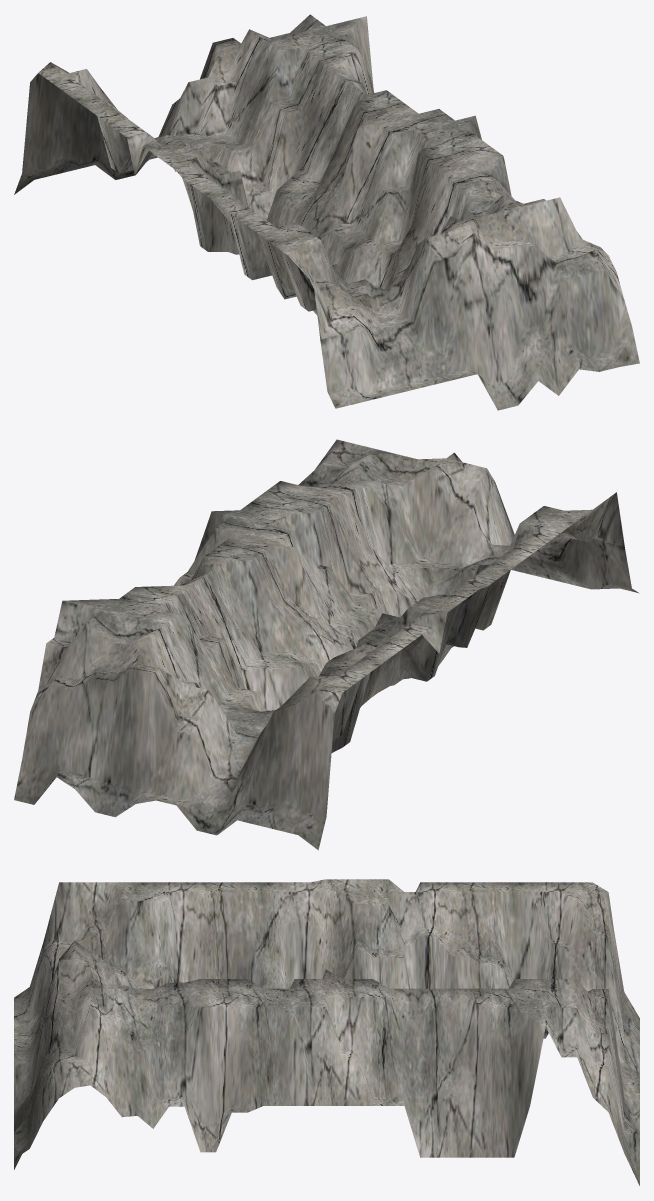
The model's file is DWARF_PALACE_MAINHALL_CELLING02C.fbx.
The picture shows the model from 3 angles, top to bottom: view 1: azimuth 30°, elevation 25°; view 2: azimuth 150°, elevation 25°; view 3: azimuth 270°, elevation 25°; orthographic projection. The views are drawn at different scales.
Visible parts, largest first — view 1: DWARF_PALACE_MAINHALL_CELLING02C; view 2: DWARF_PALACE_MAINHALL_CELLING02C; view 3: DWARF_PALACE_MAINHALL_CELLING02C.
Boxes of the visible parts, <box> form: DWARF_PALACE_MAINHALL_CELLING02C: <box>14,14,639,410</box>; DWARF_PALACE_MAINHALL_CELLING02C: <box>14,439,639,850</box>; DWARF_PALACE_MAINHALL_CELLING02C: <box>14,879,639,1185</box>.
Bounding box in the file's own units: 284038 × 149103 × 519418.
Materials: 1 (1 with a texture image).
